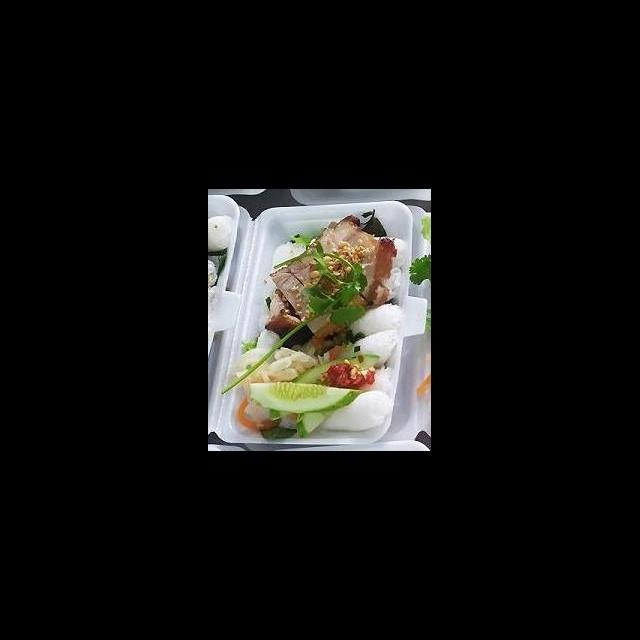banh hoi: (322, 387, 396, 434), (264, 237, 310, 296), (334, 328, 400, 367), (342, 300, 404, 341), (336, 364, 396, 398), (368, 233, 410, 275)
banh hoi heo quay: (225, 205, 431, 451)
dua chua: (232, 339, 332, 431)
thit heo quay: (266, 251, 372, 341), (312, 212, 400, 311), (264, 287, 306, 338)
